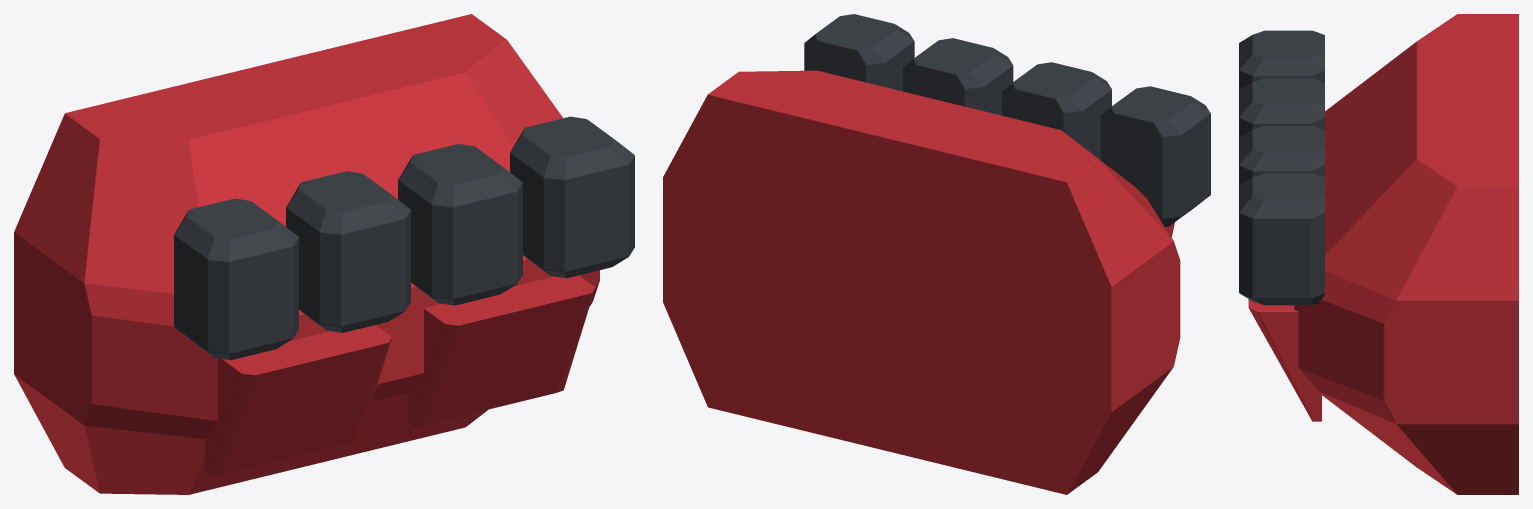
The model's file is HandFront_Set05_Afterburn.fbx.
3 renders of one model, left to right at view 1: azimuth 30°, elevation 25°; view 2: azimuth 150°, elevation 25°; view 3: azimuth 270°, elevation 25°, orthographic. The views are drawn at different scales.
Visible parts, largest first — view 1: HandFront_Set05_Afterburn; view 2: HandFront_Set05_Afterburn; view 3: HandFront_Set05_Afterburn.
Part boxes in pixels (x1,y1,x2,y2): HandFront_Set05_Afterburn: (14, 14, 634, 494); HandFront_Set05_Afterburn: (663, 14, 1210, 494); HandFront_Set05_Afterburn: (1239, 14, 1518, 494).
Size of the model in its own units: 0.3 by 0.2 by 0.1644.
